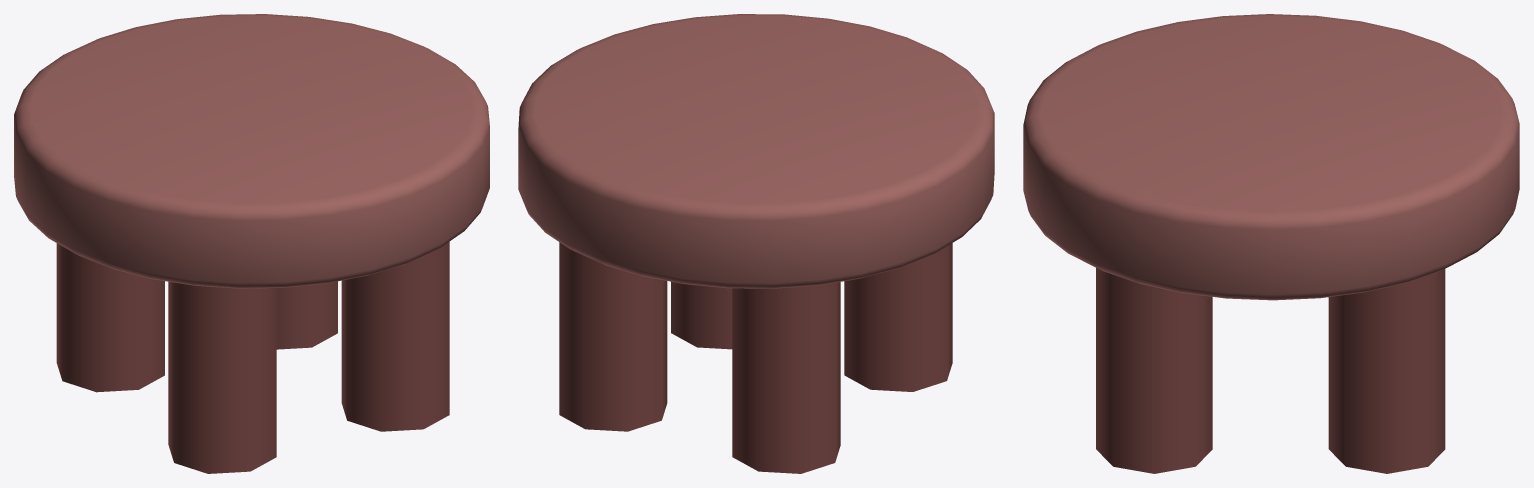
Rendered from 3d_Stool.fbx.
3 views of the same model, side by side, from view 1: azimuth 30°, elevation 25°; view 2: azimuth 150°, elevation 25°; view 3: azimuth 270°, elevation 25° (orthographic). The views are drawn at different scales.
Visible parts, largest first — view 1: 3d_Stool; view 2: 3d_Stool; view 3: 3d_Stool.
Part boxes in pixels (x1,y1,x2,y2): 3d_Stool: [14, 14, 489, 473]; 3d_Stool: [518, 14, 994, 473]; 3d_Stool: [1023, 14, 1519, 473].
Bounding box in the file's own units: 0.405 × 0.262 × 0.405.
